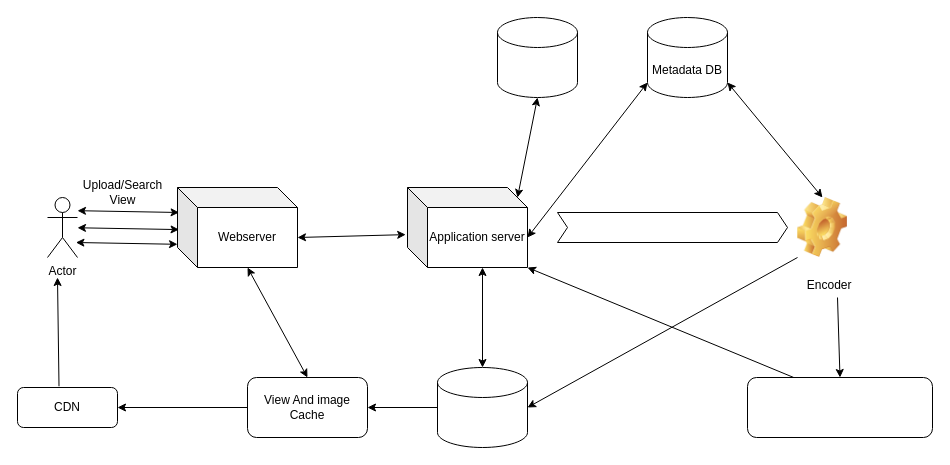
This 950x465 diagram has some shape labels left out. Here are the shapes that lost their labels. From the top down, the centre of each, then its label:
At pixel 537 57: "User Management DB".
At pixel 672 227: "Processing Queue".
At pixel 482 407: "Video Storage HDFS".
At pixel 839 407: "Big Table Thumbnails Storage".
